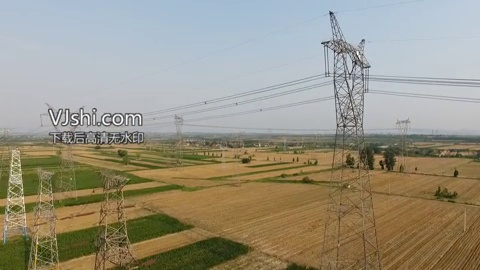tower_body: (312, 7, 389, 269), (90, 165, 136, 269), (27, 167, 62, 270)
tower_foot: (319, 208, 381, 265)
tower_head: (320, 11, 381, 124)
